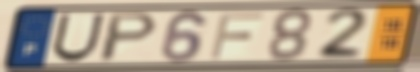2: (317, 7, 372, 62)
6: (158, 8, 210, 64)
8: (265, 7, 316, 64)
F: (207, 11, 266, 61)
P: (96, 11, 162, 64)
U: (49, 12, 108, 64)
